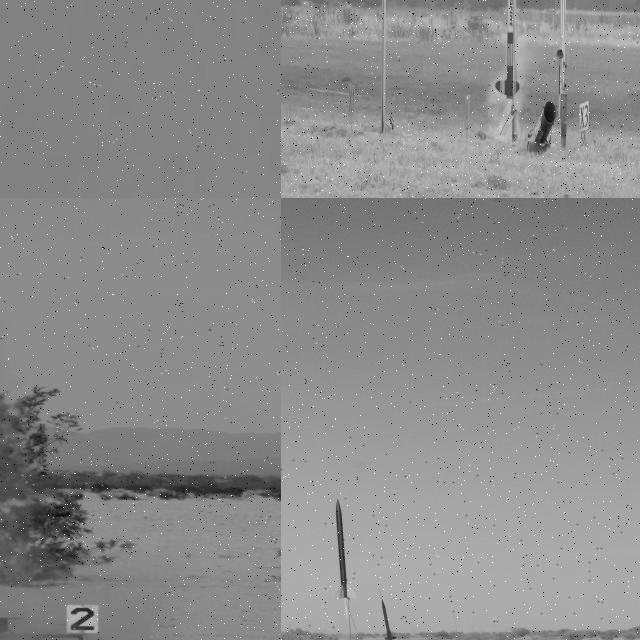Rocket: (332, 498, 358, 600), (495, 0, 519, 103), (381, 599, 409, 640)
